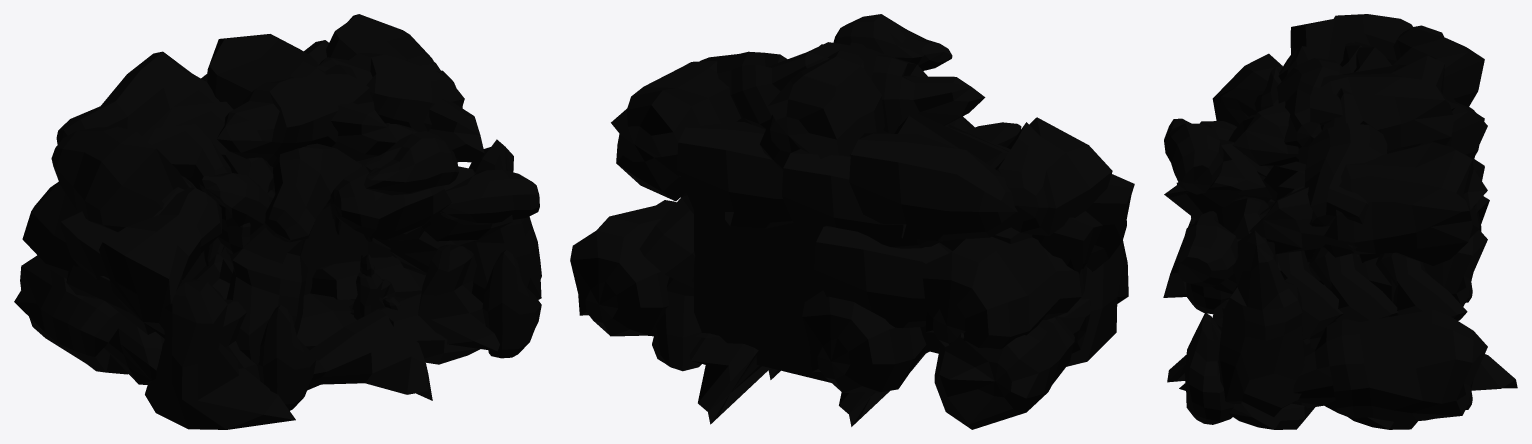
File: Cave.fbx
3 views of the same model, side by side, from view 1: azimuth 30°, elevation 25°; view 2: azimuth 150°, elevation 25°; view 3: azimuth 270°, elevation 25° (orthographic). The views are drawn at different scales.
Parts seen in each view (by area): view 1: polySurface8.001, polySurface8; view 2: polySurface8.001, polySurface8; view 3: polySurface8.001, polySurface8.
Part boxes in pixels (x1,y1,x2,y2): polySurface8.001: [14, 14, 541, 429]; polySurface8: [183, 184, 367, 294]; polySurface8.001: [570, 14, 1134, 429]; polySurface8: [694, 210, 1032, 382]; polySurface8.001: [1163, 14, 1517, 429]; polySurface8: [1391, 262, 1442, 302].
Size of the model in its own units: 200 by 128 by 139.
Materials: 2 (2 with a texture image).
